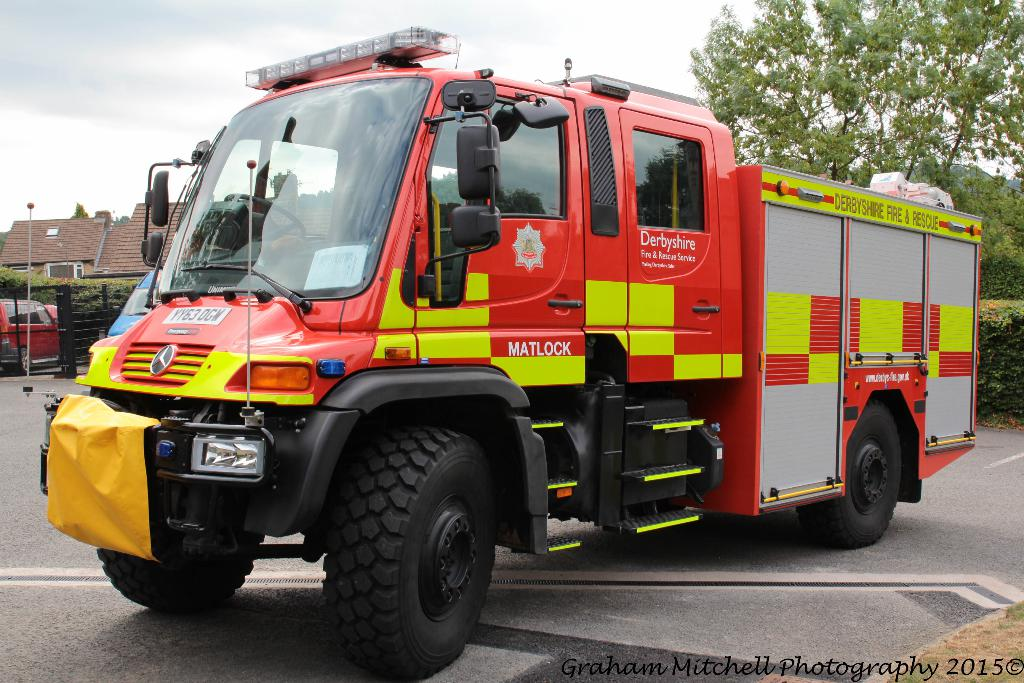car: (1, 288, 76, 378)
truck: (26, 15, 993, 679)
